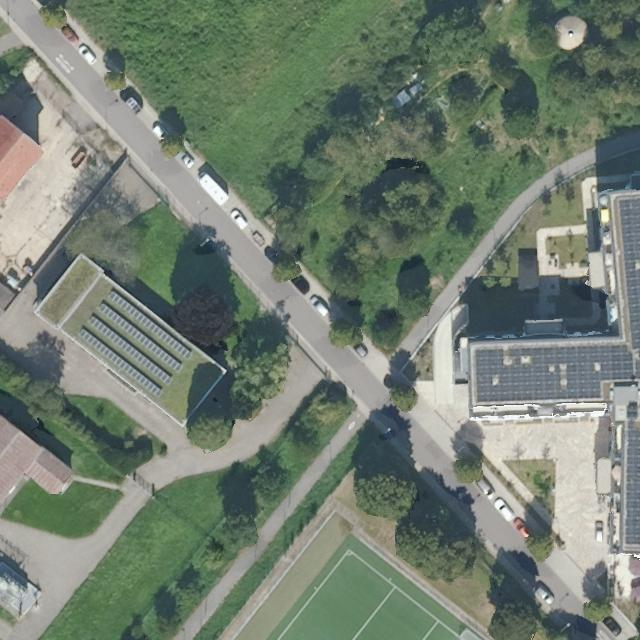PV: (473, 343, 635, 403), (82, 307, 176, 388), (91, 298, 187, 376), (72, 322, 166, 400), (102, 285, 195, 361), (617, 197, 639, 352), (622, 418, 639, 546)
